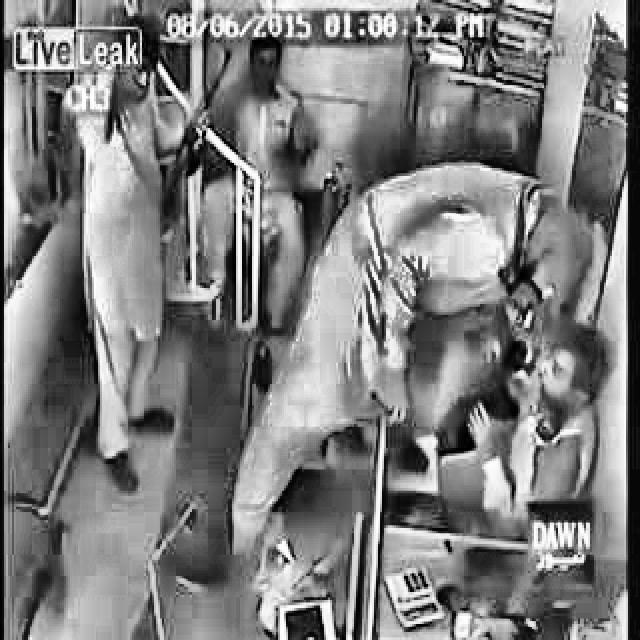robbery: (227, 156, 613, 560), (72, 15, 236, 492)
